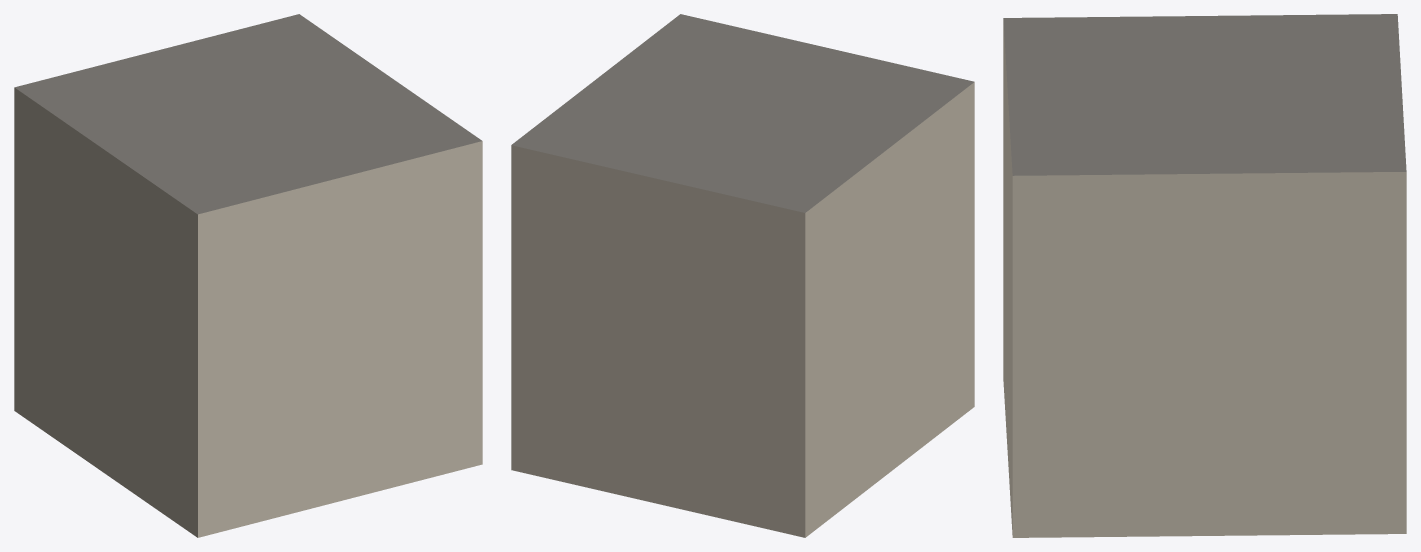
3 renders of one model, left to right at view 1: azimuth 30°, elevation 25°; view 2: azimuth 150°, elevation 25°; view 3: azimuth 270°, elevation 25°, orthographic. The views are drawn at different scales.
Parts seen in each view (by area): view 1: HP-w1424106491; view 2: HP-w1424106491; view 3: HP-w1424106491.
Boxes of the visible parts, x1=… form: HP-w1424106491: x1=14, y1=14, x2=482, y2=537; HP-w1424106491: x1=511, y1=14, x2=974, y2=537; HP-w1424106491: x1=1003, y1=14, x2=1406, y2=537.
Size of the model in its own units: 11.5 by 12 by 12.11.
